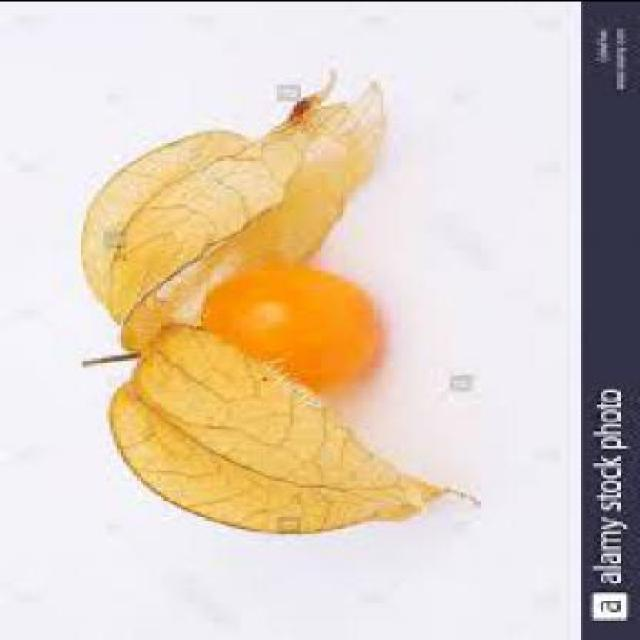BIODEGRADABLE: (101, 73, 393, 538), (80, 78, 377, 352), (203, 271, 366, 394)
